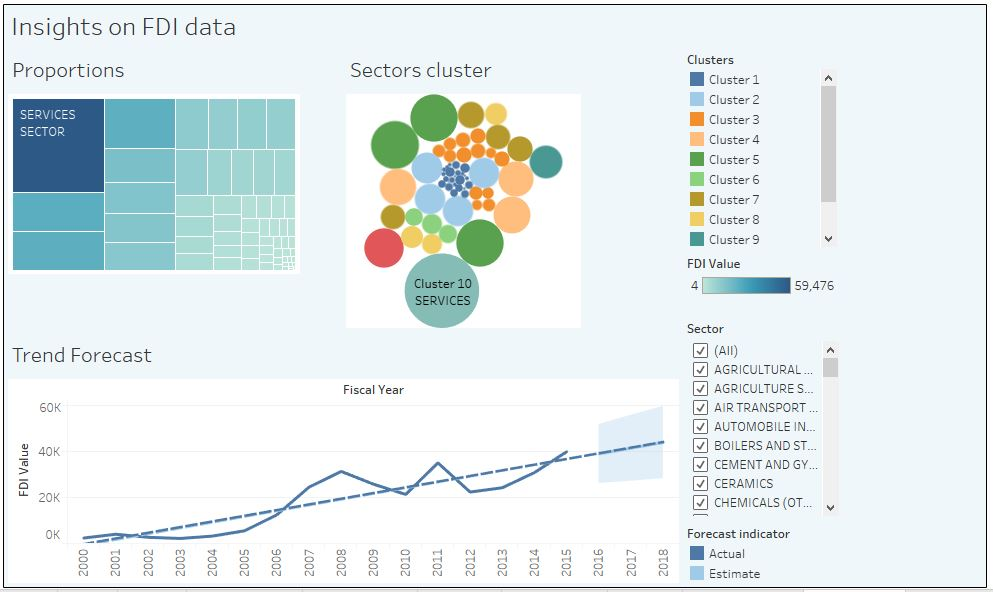

The dashboard page shown, as its layout file describes it:
{"tool":"tableau","page":{"name":"Dashboard 1","canvas":[1000,600],"ordinal":0},"visuals":[{"type":"worksheet","box":[0,0,1000,600]},{"type":"worksheet","param":"vert","box":[9,9,982,582]},{"type":"worksheet","box":[9,9,982,42]},{"type":"worksheet","param":"horz","box":[9,51,982,540]},{"type":"worksheet","param":"vert","box":[9,51,679,540]},{"type":"worksheet","param":"horz","box":[9,51,679,285]},{"type":"worksheet","param":"horz","box":[9,51,338,285]},{"type":"worksheet","title":"8_Portion of FDI","mark":"Automatic","box":[9,51,338,233]},{"type":"worksheet","title":"9_Clusters","mark":"Circle","box":[347,51,339,285]},{"type":"worksheet","param":"vert","box":[688,51,160,540]},{"type":"worksheet","title":"9_Clusters","mark":"Circle","param":"[federated.09y0ni10jtp2k80zyanmf1hq76h2].[none:AdhocCluster:1:ok]","box":[688,51,160,204.5]},{"type":"worksheet","title":"8_Portion of FDI","mark":"Automatic","param":"[federated.09y0ni10jtp2k80zyanmf1hq76h2].[sum:Pivot Field Values:qk]","box":[688,255.5,160,65]},{"type":"worksheet","title":"10_Trend-Forecast","mark":"Automatic","rows":["Pivot Field Values"],"cols":["Calculation_400820391823187968"],"param":"[federated.09y0ni10jtp2k80zyanmf1hq76h2].[none:Sector:nk]","box":[688,320.5,160,204.5]},{"type":"worksheet","title":"10_Trend-Forecast","mark":"Automatic","rows":["Pivot Field Values"],"cols":["Calculation_400820391823187968"],"box":[9,336,679,255]},{"type":"worksheet","title":"10_Trend-Forecast","mark":"Automatic","rows":["Pivot Field Values"],"cols":["Calculation_400820391823187968"],"param":"[federated.09y0ni10jtp2k80zyanmf1hq76h2].[none:Forecast Indicator:nk]","box":[688,525,160,66]}]}

Visuals, with their boxes in screenshot pixels (x1, y1, x2, y2), scaled from the page's 1000x600 canvas onto the 993x592 screenshot:
worksheet: [left=0, top=0, right=992, bottom=591]
worksheet: [left=9, top=9, right=984, bottom=583]
worksheet: [left=9, top=9, right=984, bottom=50]
worksheet: [left=9, top=50, right=984, bottom=583]
worksheet: [left=9, top=50, right=683, bottom=583]
worksheet: [left=9, top=50, right=683, bottom=332]
worksheet: [left=9, top=50, right=345, bottom=332]
"8_Portion of FDI" worksheet: [left=9, top=50, right=345, bottom=280]
"9_Clusters" worksheet (Circle marks): [left=345, top=50, right=681, bottom=332]
worksheet: [left=683, top=50, right=842, bottom=583]
"9_Clusters" worksheet (Circle marks): [left=683, top=50, right=842, bottom=252]
"8_Portion of FDI" worksheet: [left=683, top=252, right=842, bottom=316]
"10_Trend-Forecast" worksheet: [left=683, top=316, right=842, bottom=518]
"10_Trend-Forecast" worksheet: [left=9, top=332, right=683, bottom=583]
"10_Trend-Forecast" worksheet: [left=683, top=518, right=842, bottom=583]
